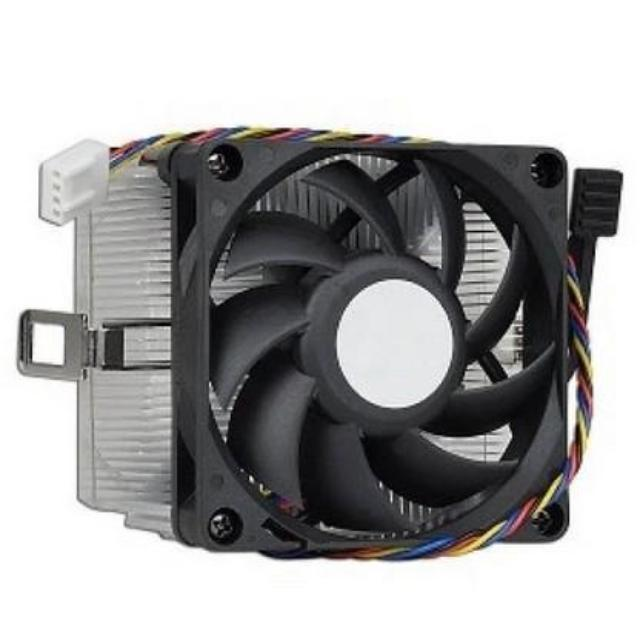CPU_Fan: (26, 127, 594, 559)
